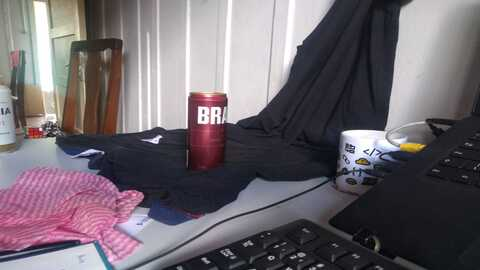duplo_malte: (182, 90, 232, 174)
